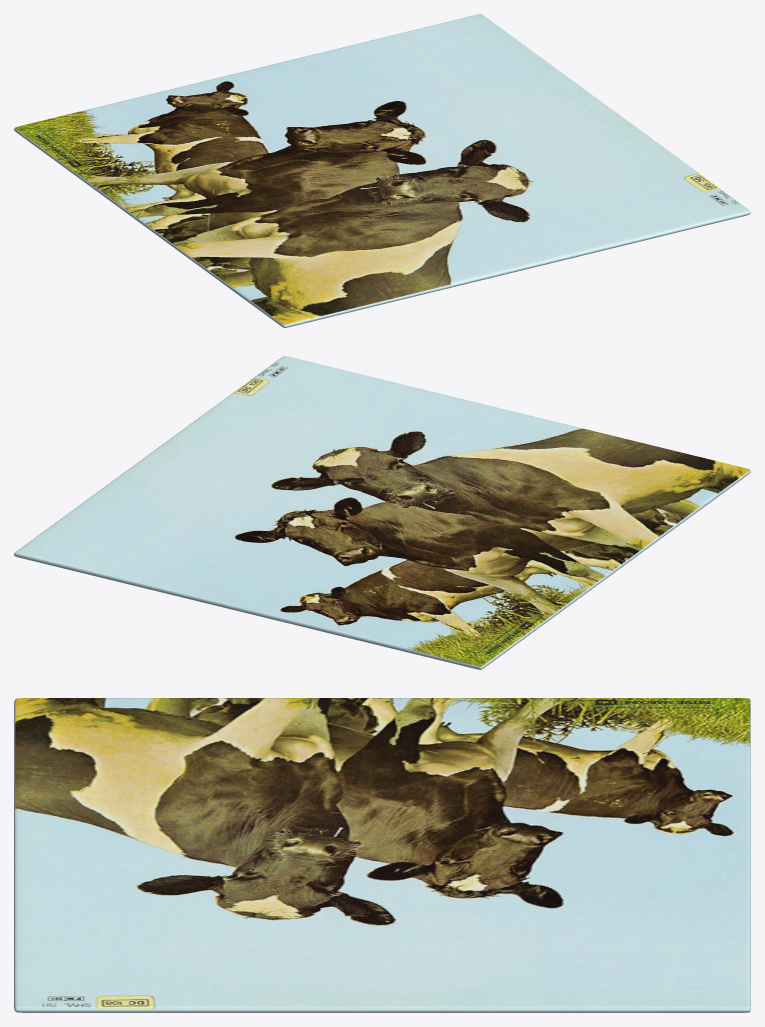
Rendered from Record.fbx.
3 renders of one model, top to bottom at view 1: azimuth 30°, elevation 25°; view 2: azimuth 150°, elevation 25°; view 3: azimuth 270°, elevation 25°, orthographic. The views are drawn at different scales.
Visible parts, largest first — view 1: 立方体; view 2: 立方体; view 3: 立方体.
Part boxes in pixels (bbox=[...]): 立方体: bbox=[14, 14, 750, 327]; 立方体: bbox=[14, 356, 750, 669]; 立方体: bbox=[14, 698, 750, 1012].
Bounding box in the file's own units: 31.47 × 0.3 × 31.48.
